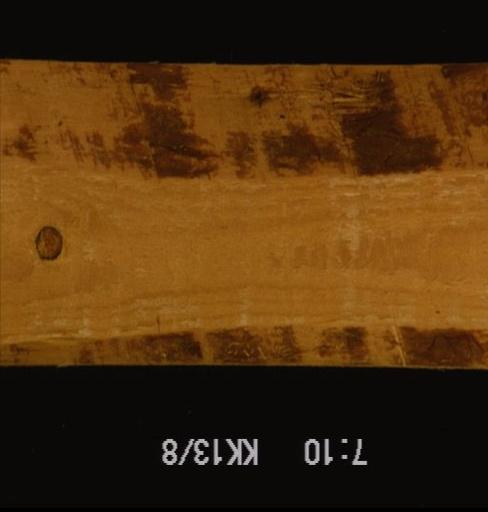dry_knot: (33, 224, 65, 261)
wave: (0, 63, 486, 178), (1, 322, 486, 364)
